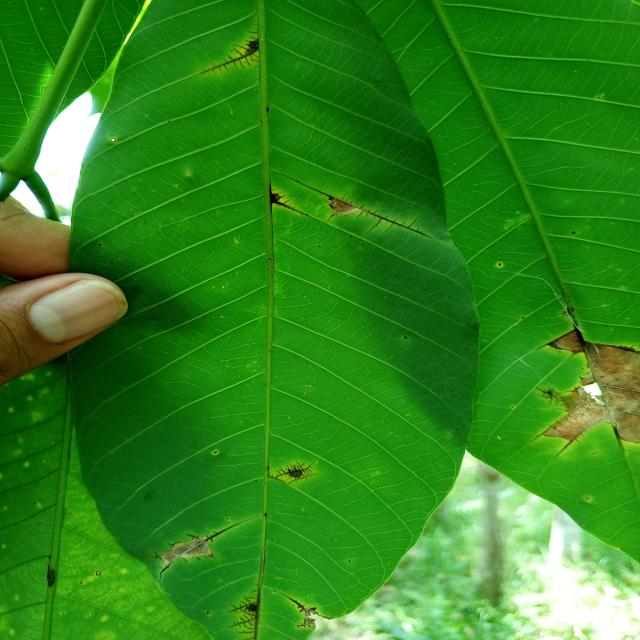Colletotrichum: (96, 571, 101, 575), (404, 336, 408, 339), (207, 611, 210, 614), (214, 451, 217, 454), (498, 263, 501, 266), (80, 582, 83, 584)
Corynespora: (156, 523, 237, 590), (200, 21, 261, 75), (358, 204, 431, 238), (225, 579, 265, 640), (268, 182, 308, 216), (268, 459, 316, 484), (530, 414, 568, 442), (536, 329, 574, 353), (536, 387, 573, 408), (280, 592, 318, 612), (555, 432, 584, 458), (604, 344, 640, 354), (574, 326, 587, 352), (325, 213, 335, 223), (297, 622, 312, 628)
Leaf-Blight: (543, 342, 640, 443), (331, 199, 359, 216)
